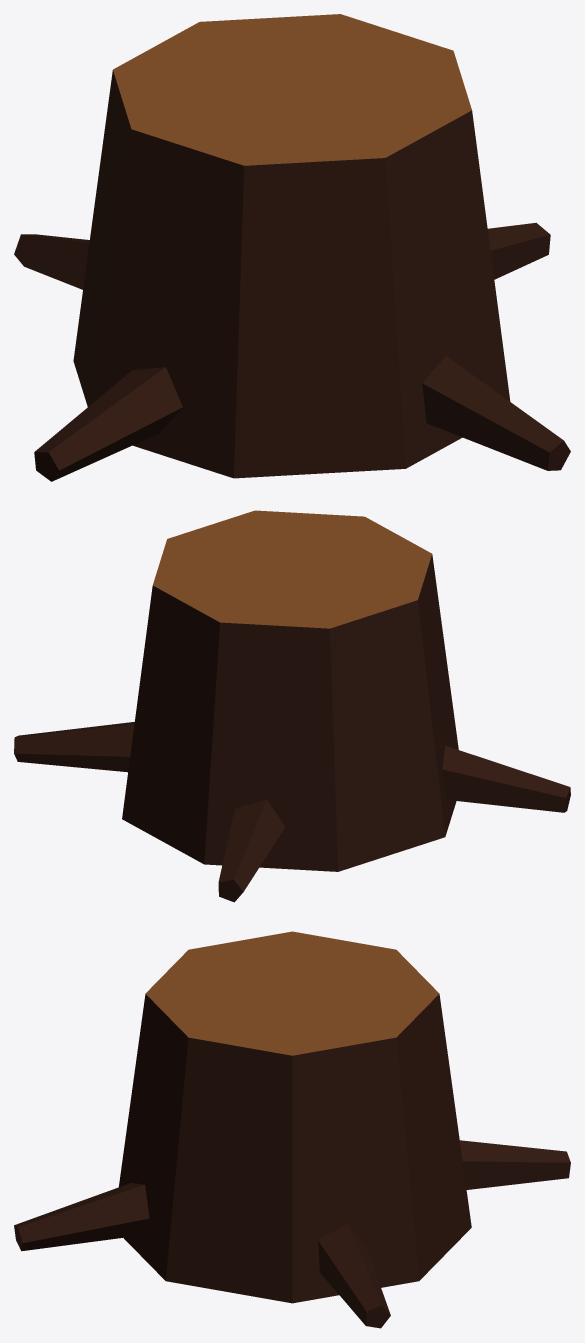
Rendered from Tree_Stump_03.fbx.
3 views of the same model, one above another, from view 1: azimuth 30°, elevation 25°; view 2: azimuth 150°, elevation 25°; view 3: azimuth 270°, elevation 25° (orthographic). The views are drawn at different scales.
Visible parts, largest first — view 1: Tree_Stump_03_Mesh; view 2: Tree_Stump_03_Mesh; view 3: Tree_Stump_03_Mesh.
Part boxes in pixels (x1=…): Tree_Stump_03_Mesh: x1=14, y1=14, x2=570, y2=481; Tree_Stump_03_Mesh: x1=14, y1=510, x2=570, y2=902; Tree_Stump_03_Mesh: x1=14, y1=931, x2=570, y2=1328.
Bounding box in the file's own units: 1.55 × 0.72 × 1.55.
1 material, 1 textured.
